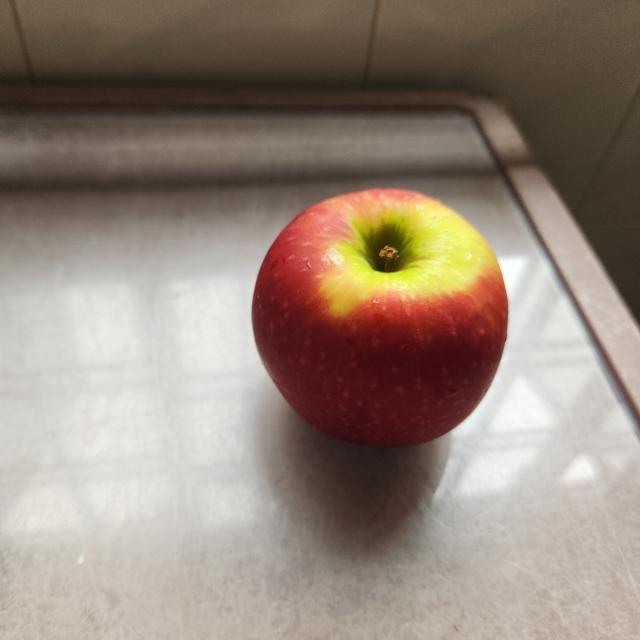apple: (248, 180, 518, 460)
